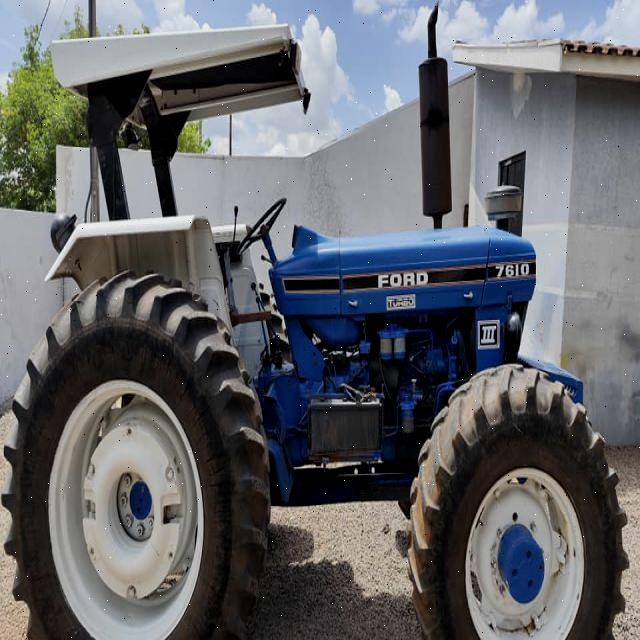Tratores - v5 YOLO V8L 2024-11-13: (2, 7, 624, 640)
